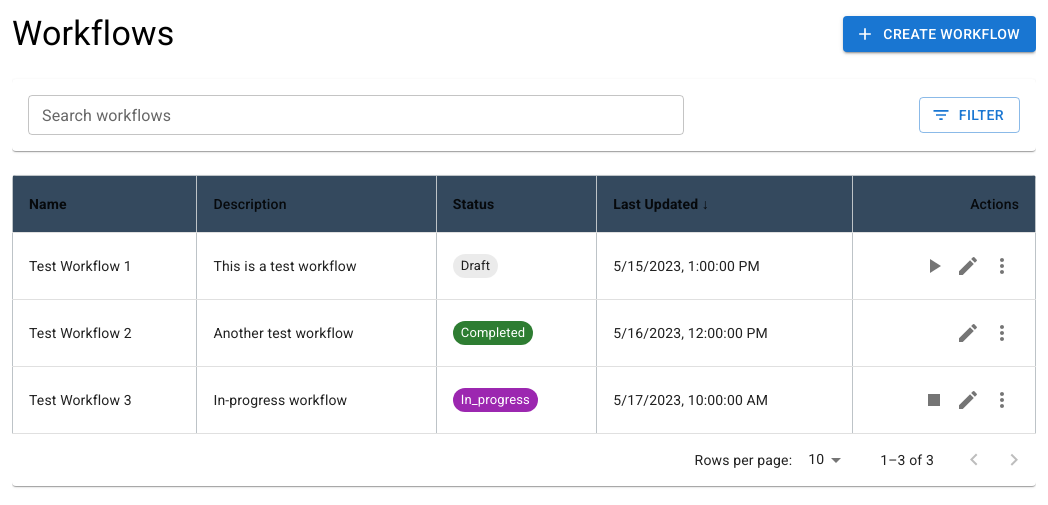
it: WorkflowList Component › handles search functionality
// Search for "Another"
Type "Another" into the field labelled "Search workflows" at (356, 115), box [28, 95, 684, 135]
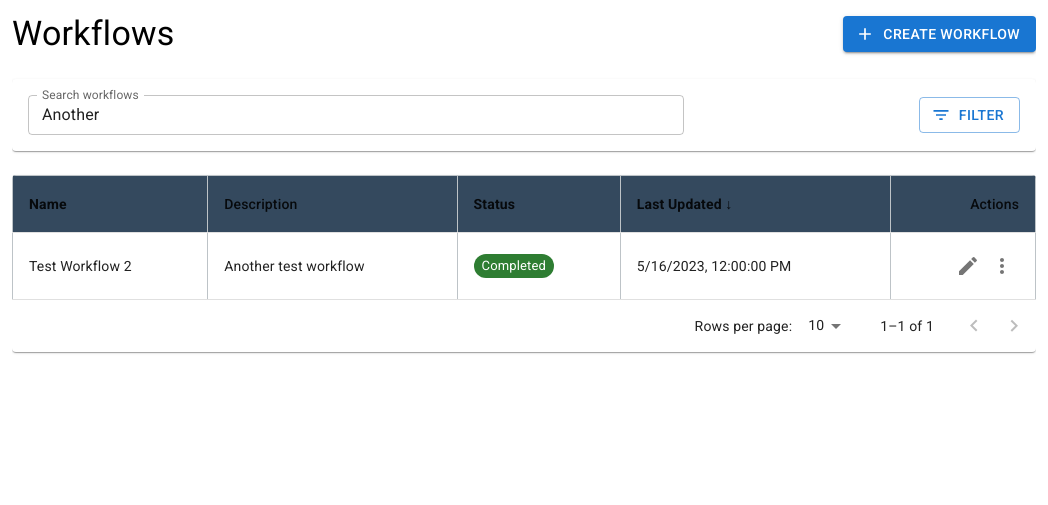
Expected: the text "Test Workflow 2" is shown, [12, 232, 208, 300]
Expected: the text "Test Workflow 1" is gone
Expected: the text "Test Workflow 3" is gone
// Clear the search
Clear the field labelled "Search workflows" at (356, 115), box [28, 95, 684, 135]
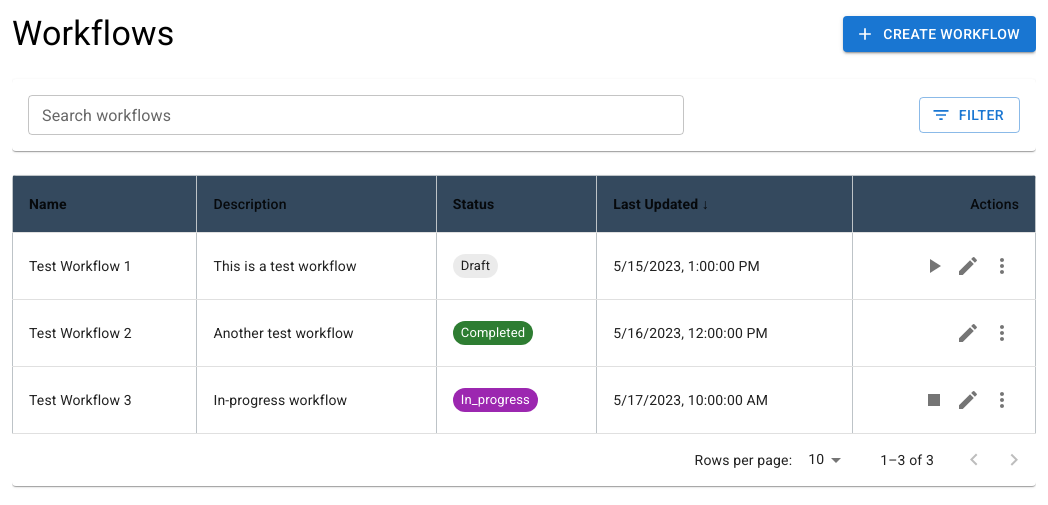
Expected: the text "Test Workflow 2" is shown, [12, 300, 197, 366]
Expected: the text "Test Workflow 1" is shown, [12, 232, 197, 300]
Expected: the text "Test Workflow 3" is shown, [12, 366, 197, 434]
